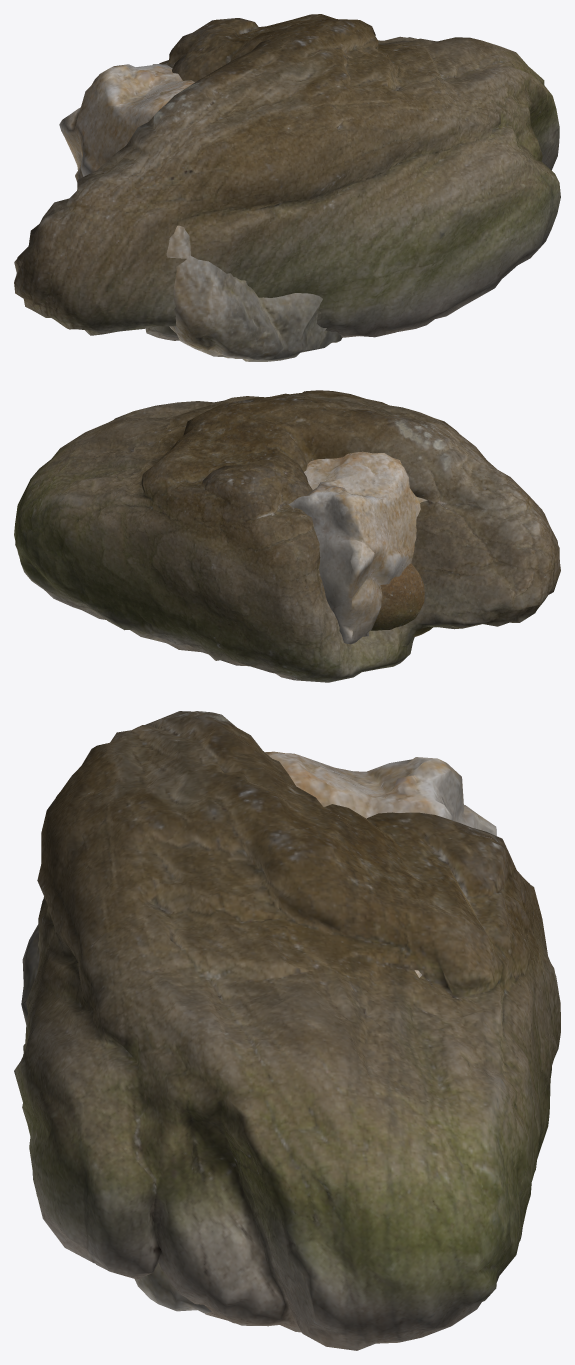
The model's file is SM_ylulfde_tier_2.gltf.
The picture shows the model from 3 angles, top to bottom: view 1: azimuth 30°, elevation 25°; view 2: azimuth 150°, elevation 25°; view 3: azimuth 270°, elevation 25°; orthographic projection. The views are drawn at different scales.
Parts seen in each view (by area): view 1: SM_ylulfde_2, SM_ylulfde_1; view 2: SM_ylulfde_2, SM_ylulfde_1, SM_ylulfde_0; view 3: SM_ylulfde_2, SM_ylulfde_1.
Part boxes in pixels (x1,y1,x2,y2): SM_ylulfde_2: [14, 14, 560, 340]; SM_ylulfde_1: [59, 64, 342, 361]; SM_ylulfde_2: [14, 390, 560, 682]; SM_ylulfde_1: [288, 451, 427, 644]; SM_ylulfde_0: [371, 563, 432, 636]; SM_ylulfde_2: [14, 711, 560, 1350]; SM_ylulfde_1: [21, 751, 496, 1313].
Bounding box in the file's own units: 0.275 × 0.1219 × 0.1485.
Materials: 1 (1 with a texture image).
